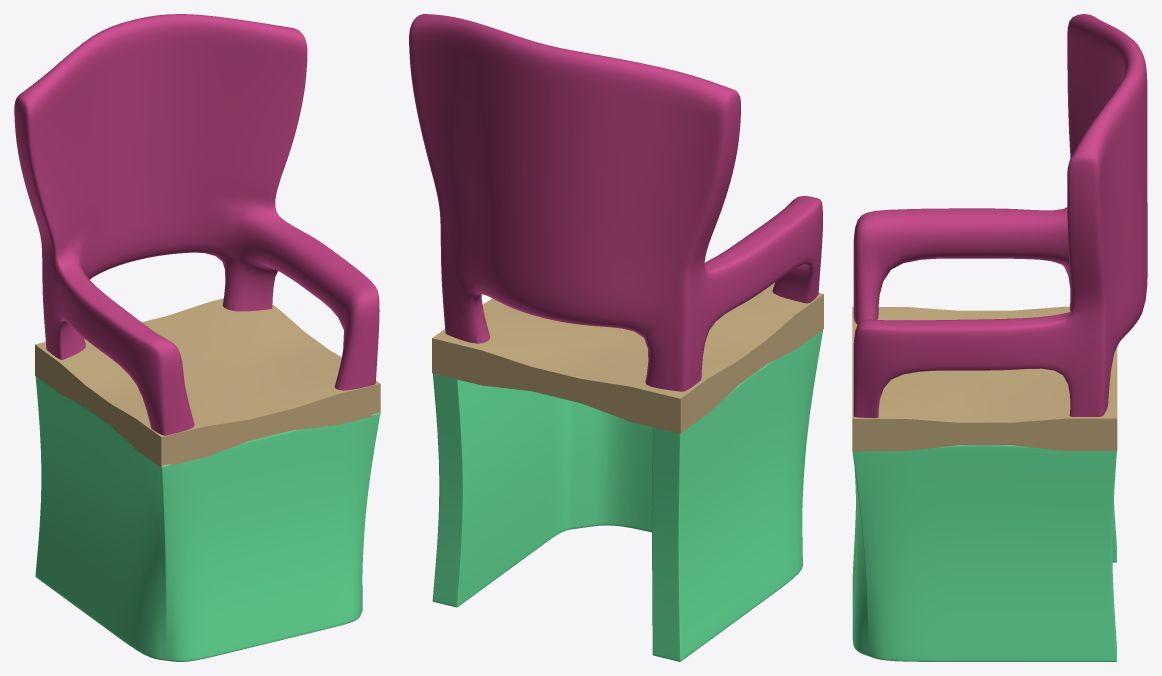
The picture shows the model from 3 angles, left to right: view 1: azimuth 30°, elevation 25°; view 2: azimuth 150°, elevation 25°; view 3: azimuth 270°, elevation 25°; orthographic projection. The views are drawn at different scales.
Visible parts, largest first — view 1: split_parent_2, Object_2.001, Object_2; view 2: split_parent_2, Object_2.001, Object_2; view 3: Object_2.001, split_parent_2, Object_2.
Part boxes in pixels (<box>): split_parent_2: <box>14,14,379,435</box>; Object_2.001: <box>35,376,380,661</box>; Object_2: <box>35,298,380,467</box>; split_parent_2: <box>409,14,822,391</box>; Object_2.001: <box>432,330,822,661</box>; Object_2: <box>432,282,823,433</box>; Object_2.001: <box>852,445,1116,661</box>; split_parent_2: <box>853,14,1147,418</box>; Object_2: <box>852,306,1117,451</box>.
Size of the model in its own units: 0.564 by 1 by 0.4882.
